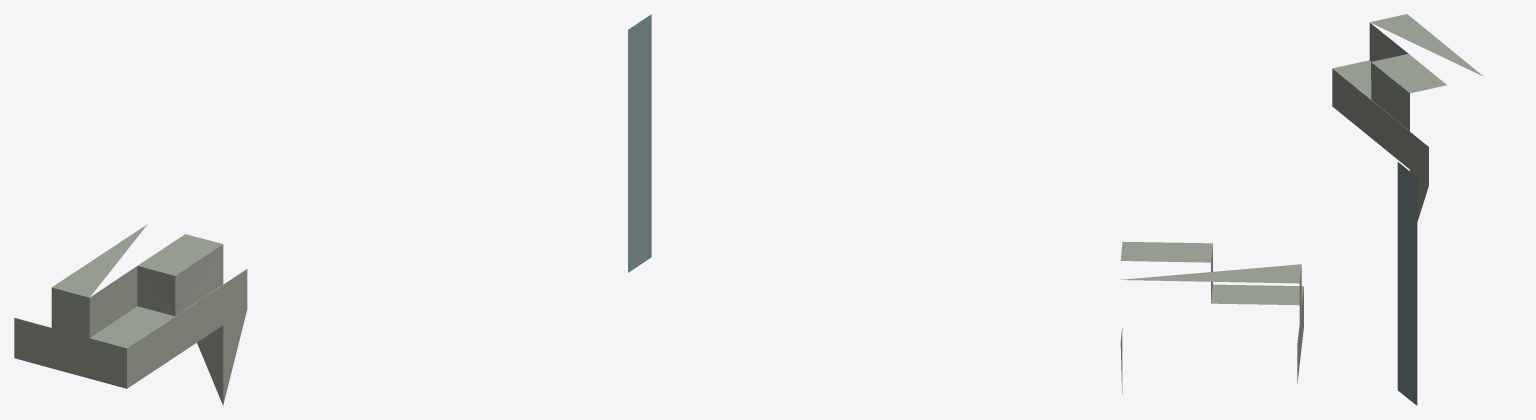
3 renders of one model, left to right at view 1: azimuth 30°, elevation 25°; view 2: azimuth 150°, elevation 25°; view 3: azimuth 270°, elevation 25°, orthographic. The views are drawn at different scales.
Visible parts, largest first — view 1: measured-industrial; view 2: measured-industrial; view 3: measured-industrial.
Part boxes in pixels (x1,y1,x2,y2): measured-industrial: [14, 14, 651, 405]; measured-industrial: [1120, 241, 1303, 393]; measured-industrial: [1332, 14, 1483, 405].
Bounding box in the file's own units: 16.11 × 7.01 × 4.51.
